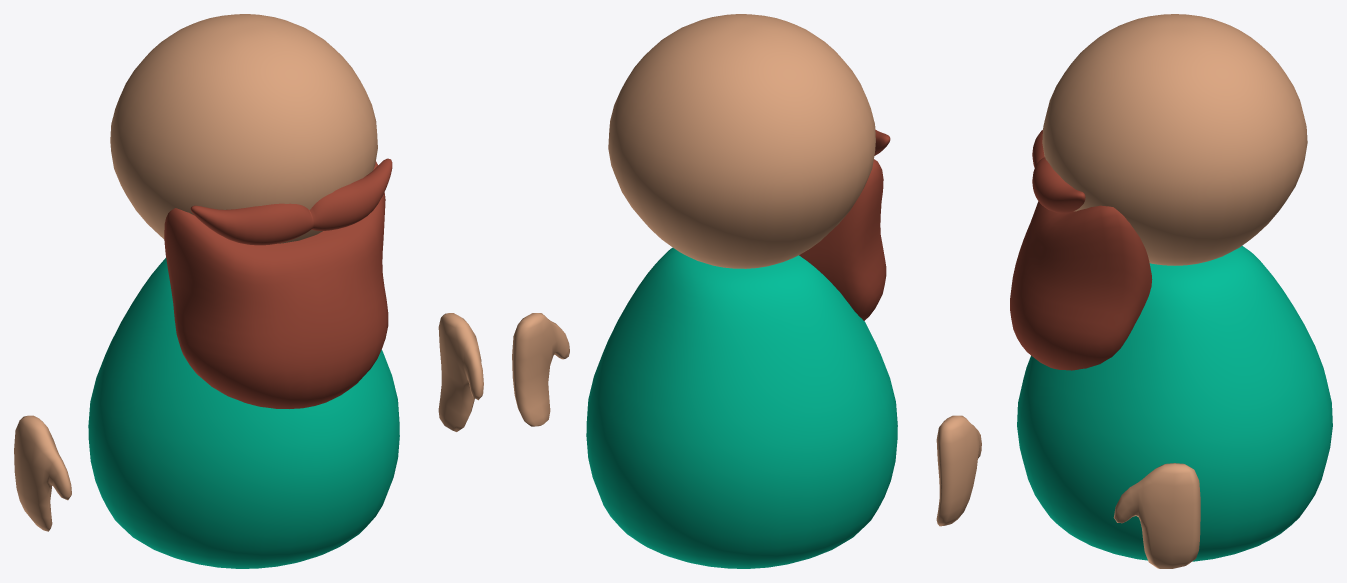
The model's file is Character_Green.fbx.
The picture shows the model from 3 angles, left to right: view 1: azimuth 30°, elevation 25°; view 2: azimuth 150°, elevation 25°; view 3: azimuth 270°, elevation 25°; orthographic projection.
Visible parts, largest first — view 1: Body.002, Head.002, Beard, Hands.002, Mustache; view 2: Body.002, Head.002, Hands.002, Beard; view 3: Body.002, Head.002, Beard, Hands.002, Mustache.
Part boxes in pixels (left/top/right/bottom): Body.002: left=88, top=258, right=399, bottom=568; Head.002: left=110, top=14, right=377, bottom=243; Beard: left=164, top=161, right=388, bottom=408; Hands.002: left=14, top=313, right=483, bottom=531; Mustache: left=190, top=158, right=392, bottom=245; Body.002: left=586, top=247, right=897, bottom=568; Head.002: left=608, top=14, right=875, bottom=268; Hands.002: left=512, top=313, right=981, bottom=526; Beard: left=799, top=159, right=886, bottom=320; Body.002: left=1017, top=245, right=1332, bottom=561; Head.002: left=1042, top=14, right=1307, bottom=265; Beard: left=1010, top=201, right=1152, bottom=370; Hands.002: left=1113, top=463, right=1200, bottom=568; Mustache: left=1032, top=130, right=1085, bottom=212.
Bounding box in the file's own units: 291 × 322 × 184.
